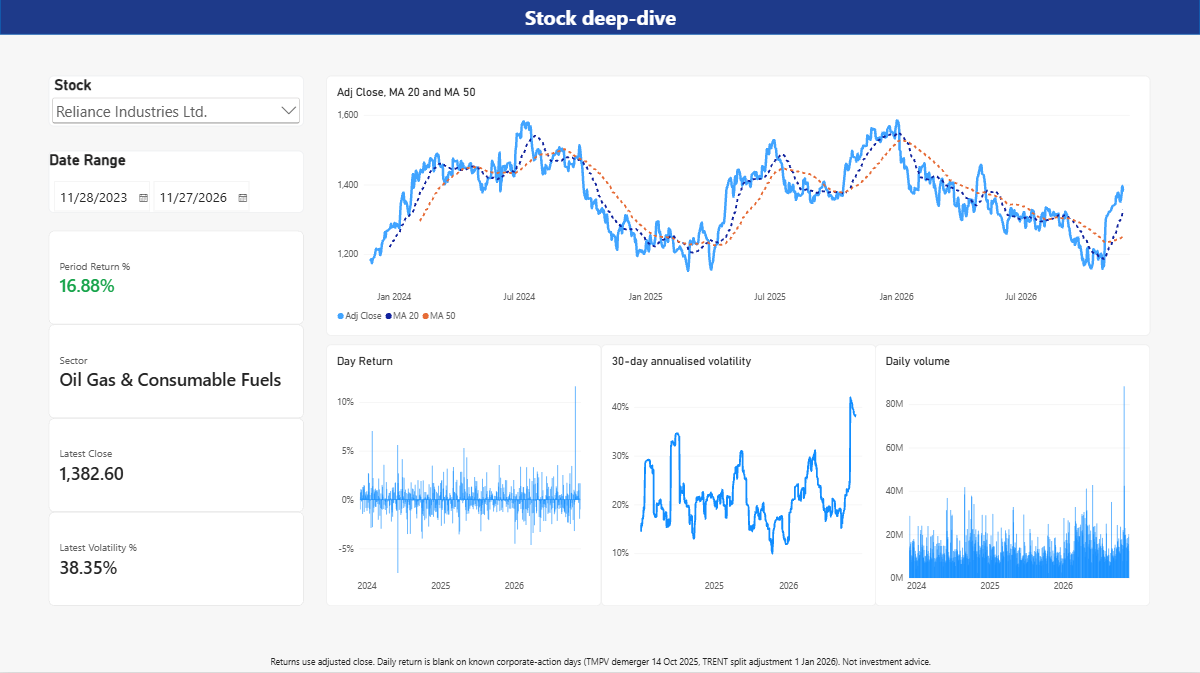

What the dashboard file says about the page in this screenshot:
{"tool":"powerbi","page":{"name":"Stock deep-dive","canvas":[1920,1080],"ordinal":1},"visuals":[{"type":"cardVisual","fields":{"Data":["_Measures.Latest Close"]},"box":[78,674,408,150],"z":0},{"type":"slicer","fields":{"Values":["dim_stock.company_name"]},"box":[78.4,126.4,407.8,81.1],"z":1000},{"type":"slicer","title":"Date Range","fields":{"Values":["dim_date.date_day"]},"box":[78.4,246.4,407.8,98.9],"z":2000},{"type":"cardVisual","fields":{"Data":["_Measures.Period Return %"]},"box":[78,374,408,150],"z":3000},{"type":"cardVisual","fields":{"Data":["_Measures.Latest Volatility %"]},"box":[78,824,408,150],"z":4000},{"type":"cardVisual","fields":{"Data":["Min(dim_stock.sector)"]},"box":[78,524,408,150],"z":5000},{"type":"lineChart","title":"Adj Close, MA 20 and MA 50","fields":{"Category":["dim_date.date_day"],"Y":["_Measures.Adj Close","_Measures.MA 20","_Measures.MA 50"]},"box":[522,126,1318,416],"z":6000},{"type":"columnChart","title":"Day Return","fields":{"Category":["dim_date.date_day"],"Y":["_Measures.Day Return %"]},"box":[522,556,440,418],"z":7000},{"type":"lineChart","title":"30-day annualised volatility","fields":{"Category":["dim_date.date_day"],"Y":["_Measures.Volatility 30d %"]},"box":[962,556,440,418],"z":8000},{"type":"columnChart","title":"Daily volume","fields":{"Category":["dim_date.date_day"],"Y":["_Measures.Volume"]},"box":[1400,556,440,418],"z":9000},{"type":"textbox","box":[430,1053.3,1061.8,26.4],"z":10000},{"type":"shape","box":[0,0,1920,60],"z":11000},{"type":"textbox","box":[840,10,245.4,42.3],"z":12000}]}

Visuals, with their boxes in screenshot pixels (x1, y1, x2, y2), scaled from the page's 1920x1080 canvas onto the 1200x673 screenshot:
cardVisual - _Measures.Latest Close: <region>49, 420, 304, 513</region>
slicer - dim_stock.company_name: <region>49, 79, 304, 129</region>
"Date Range" slicer: <region>49, 154, 304, 215</region>
cardVisual - _Measures.Period Return %: <region>49, 233, 304, 327</region>
cardVisual - _Measures.Latest Volatility %: <region>49, 513, 304, 607</region>
cardVisual - Min(dim_stock.sector): <region>49, 327, 304, 420</region>
"Adj Close, MA 20 and MA 50" lineChart: <region>326, 79, 1150, 338</region>
"Day Return" columnChart: <region>326, 346, 601, 607</region>
"30-day annualised volatility" lineChart: <region>601, 346, 876, 607</region>
"Daily volume" columnChart: <region>875, 346, 1150, 607</region>
textbox: <region>269, 656, 932, 672</region>
shape: <region>0, 0, 1199, 37</region>
textbox: <region>525, 6, 678, 33</region>
